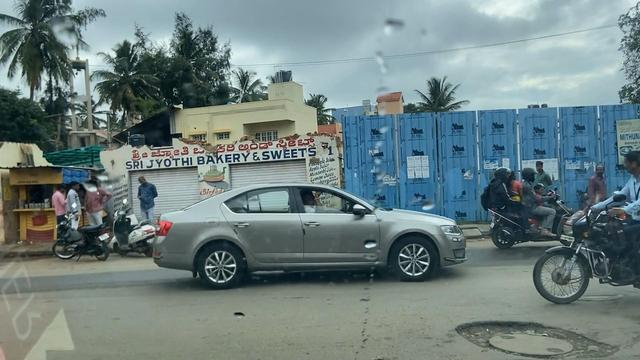LMV: (154, 179, 464, 277), (483, 170, 569, 242)
RoadDamages: (456, 319, 616, 360)
